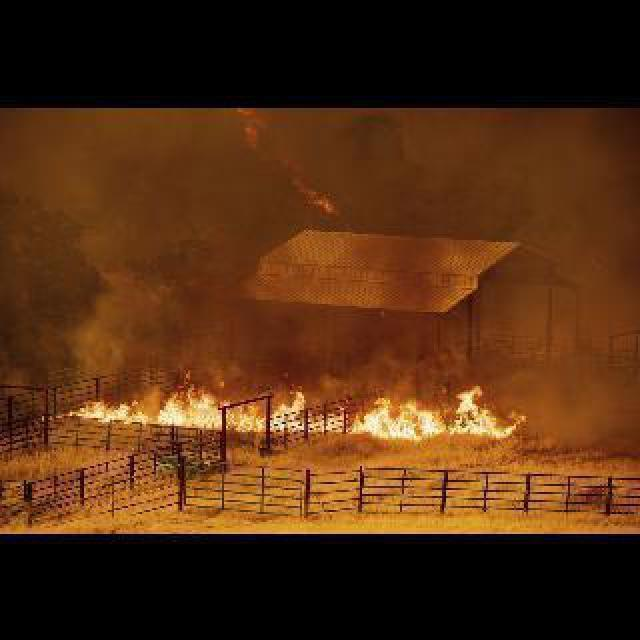Fire: (58, 378, 524, 438)
